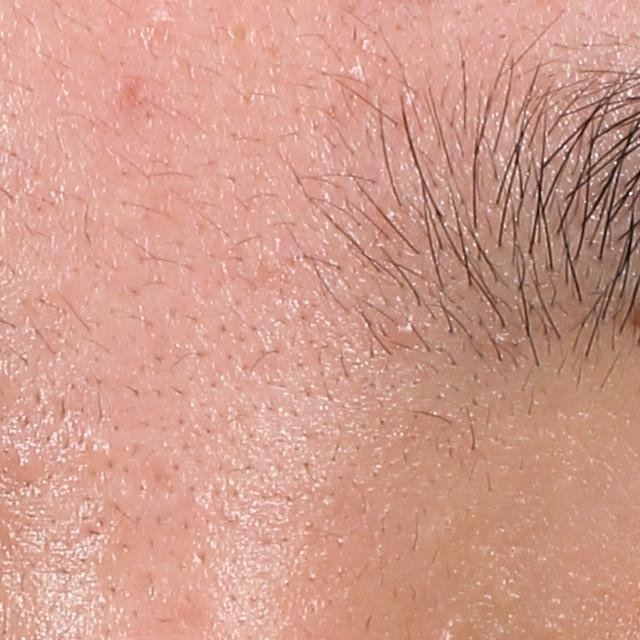comedo: (384, 320, 422, 347), (4, 448, 34, 480)
